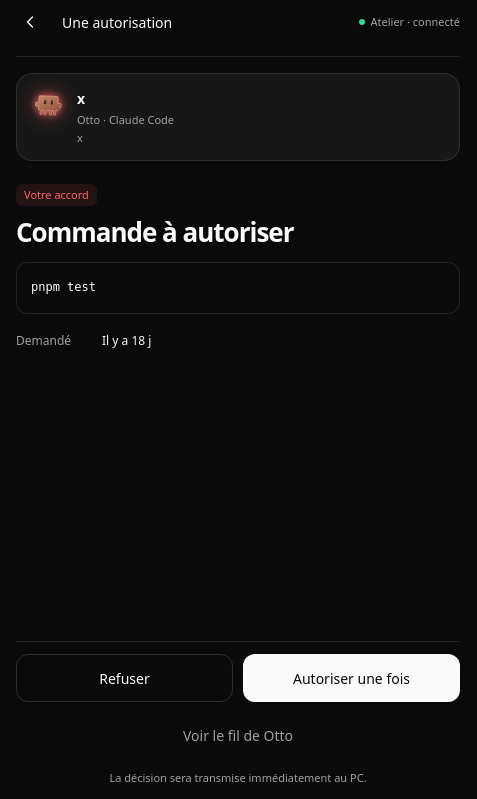
it: the app › a request replaced in place keeps « mise à jour » when the app renders the new address again
Click the button "Autoriser une fois". click: click(352, 678)
box: [243,654,460,702]
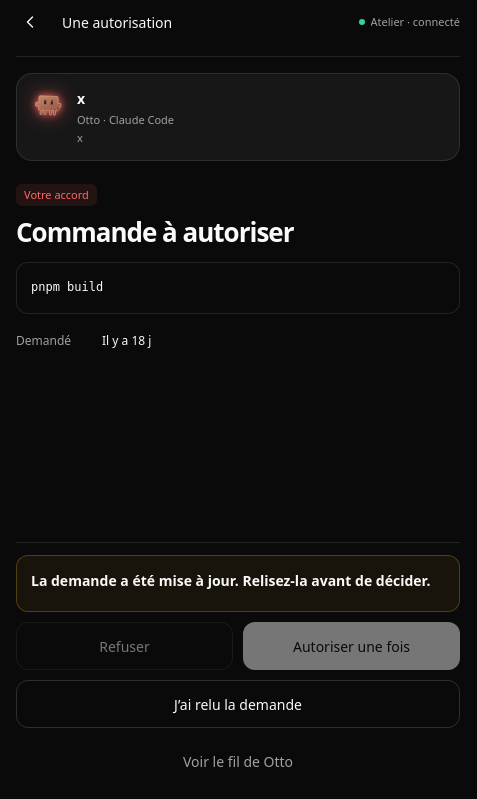
Result: the text "pnpm build" is shown at [16,262,460,314]
Result: the text "La demande a été mise à jour. Relisez-la avant de décider." is shown at [31,570,445,592]
